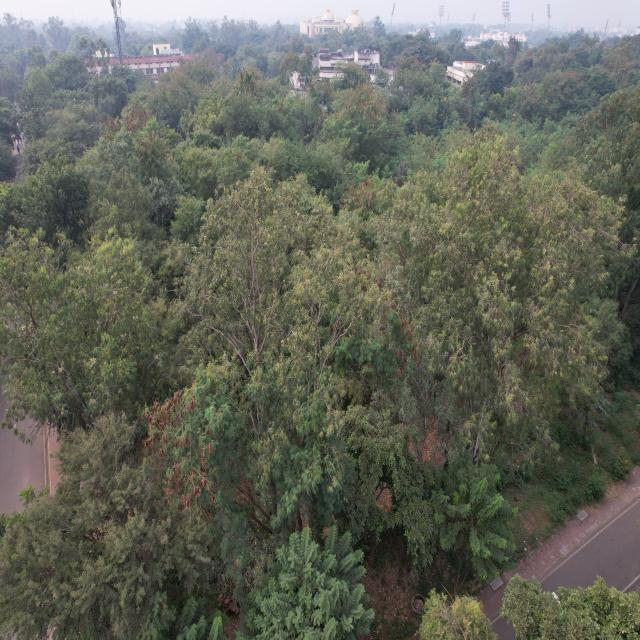Devakanchan tree: (343, 417, 429, 547)
